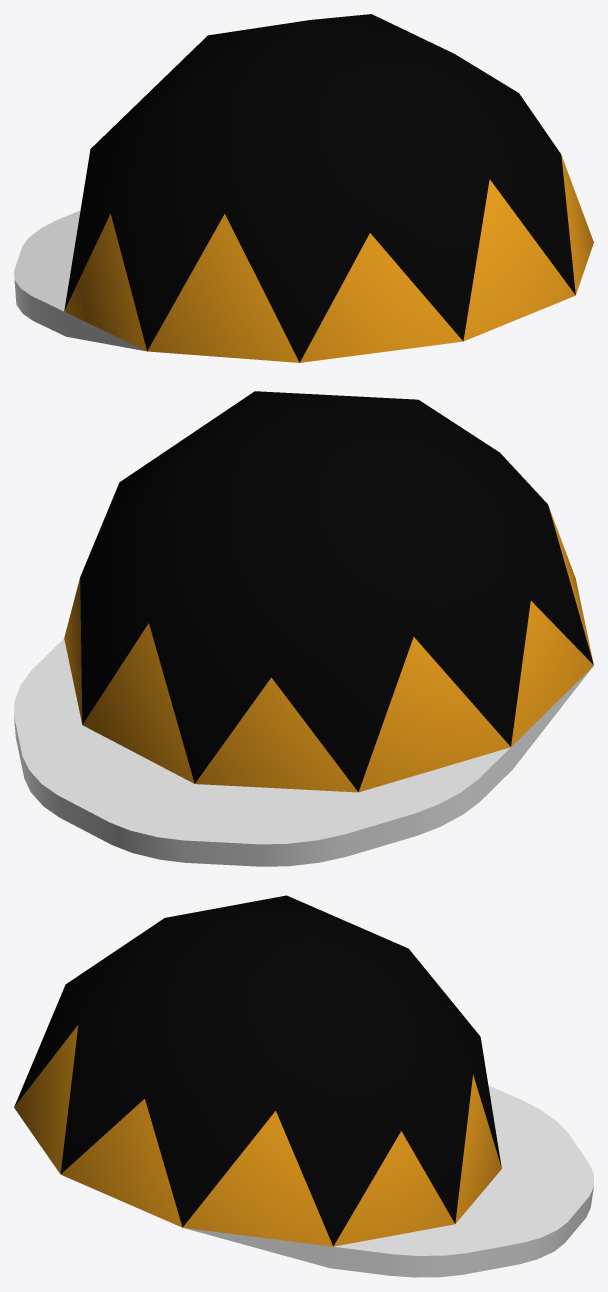
The model's file is Hat_2.fbx.
3 renders of one model, top to bottom at view 1: azimuth 30°, elevation 25°; view 2: azimuth 150°, elevation 25°; view 3: azimuth 270°, elevation 25°, orthographic. The views are drawn at different scales.
Visible parts, largest first — view 1: Icosphere.002; view 2: Icosphere.002; view 3: Icosphere.002.
Boxes of the visible parts, x1,y1,x2,y2 form: Icosphere.002: (14, 14, 593, 362); Icosphere.002: (14, 391, 593, 866); Icosphere.002: (14, 895, 593, 1277).
Bounding box in the file's own units: 126 × 84.55 × 156.
